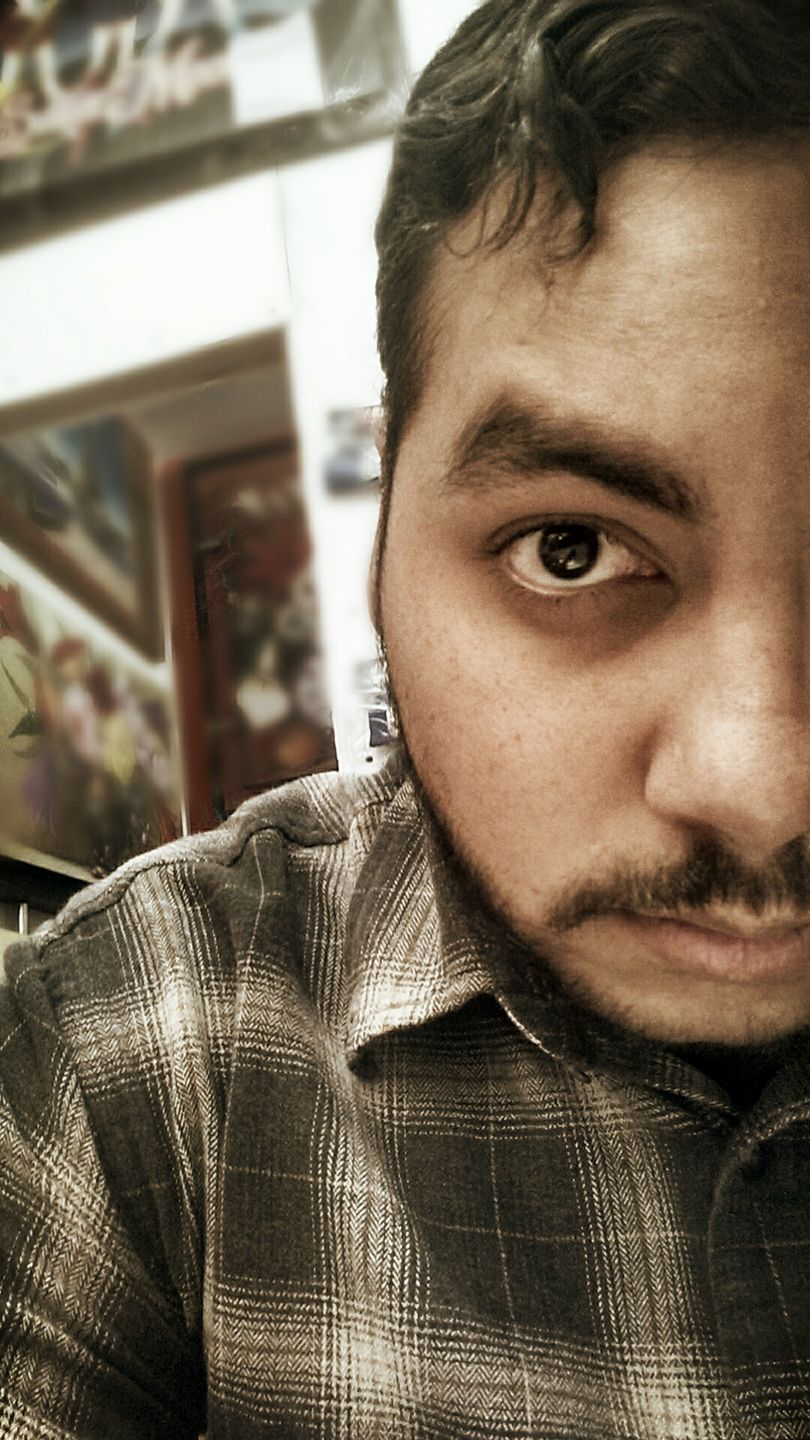Yoshi: (246, 6, 777, 1103)
